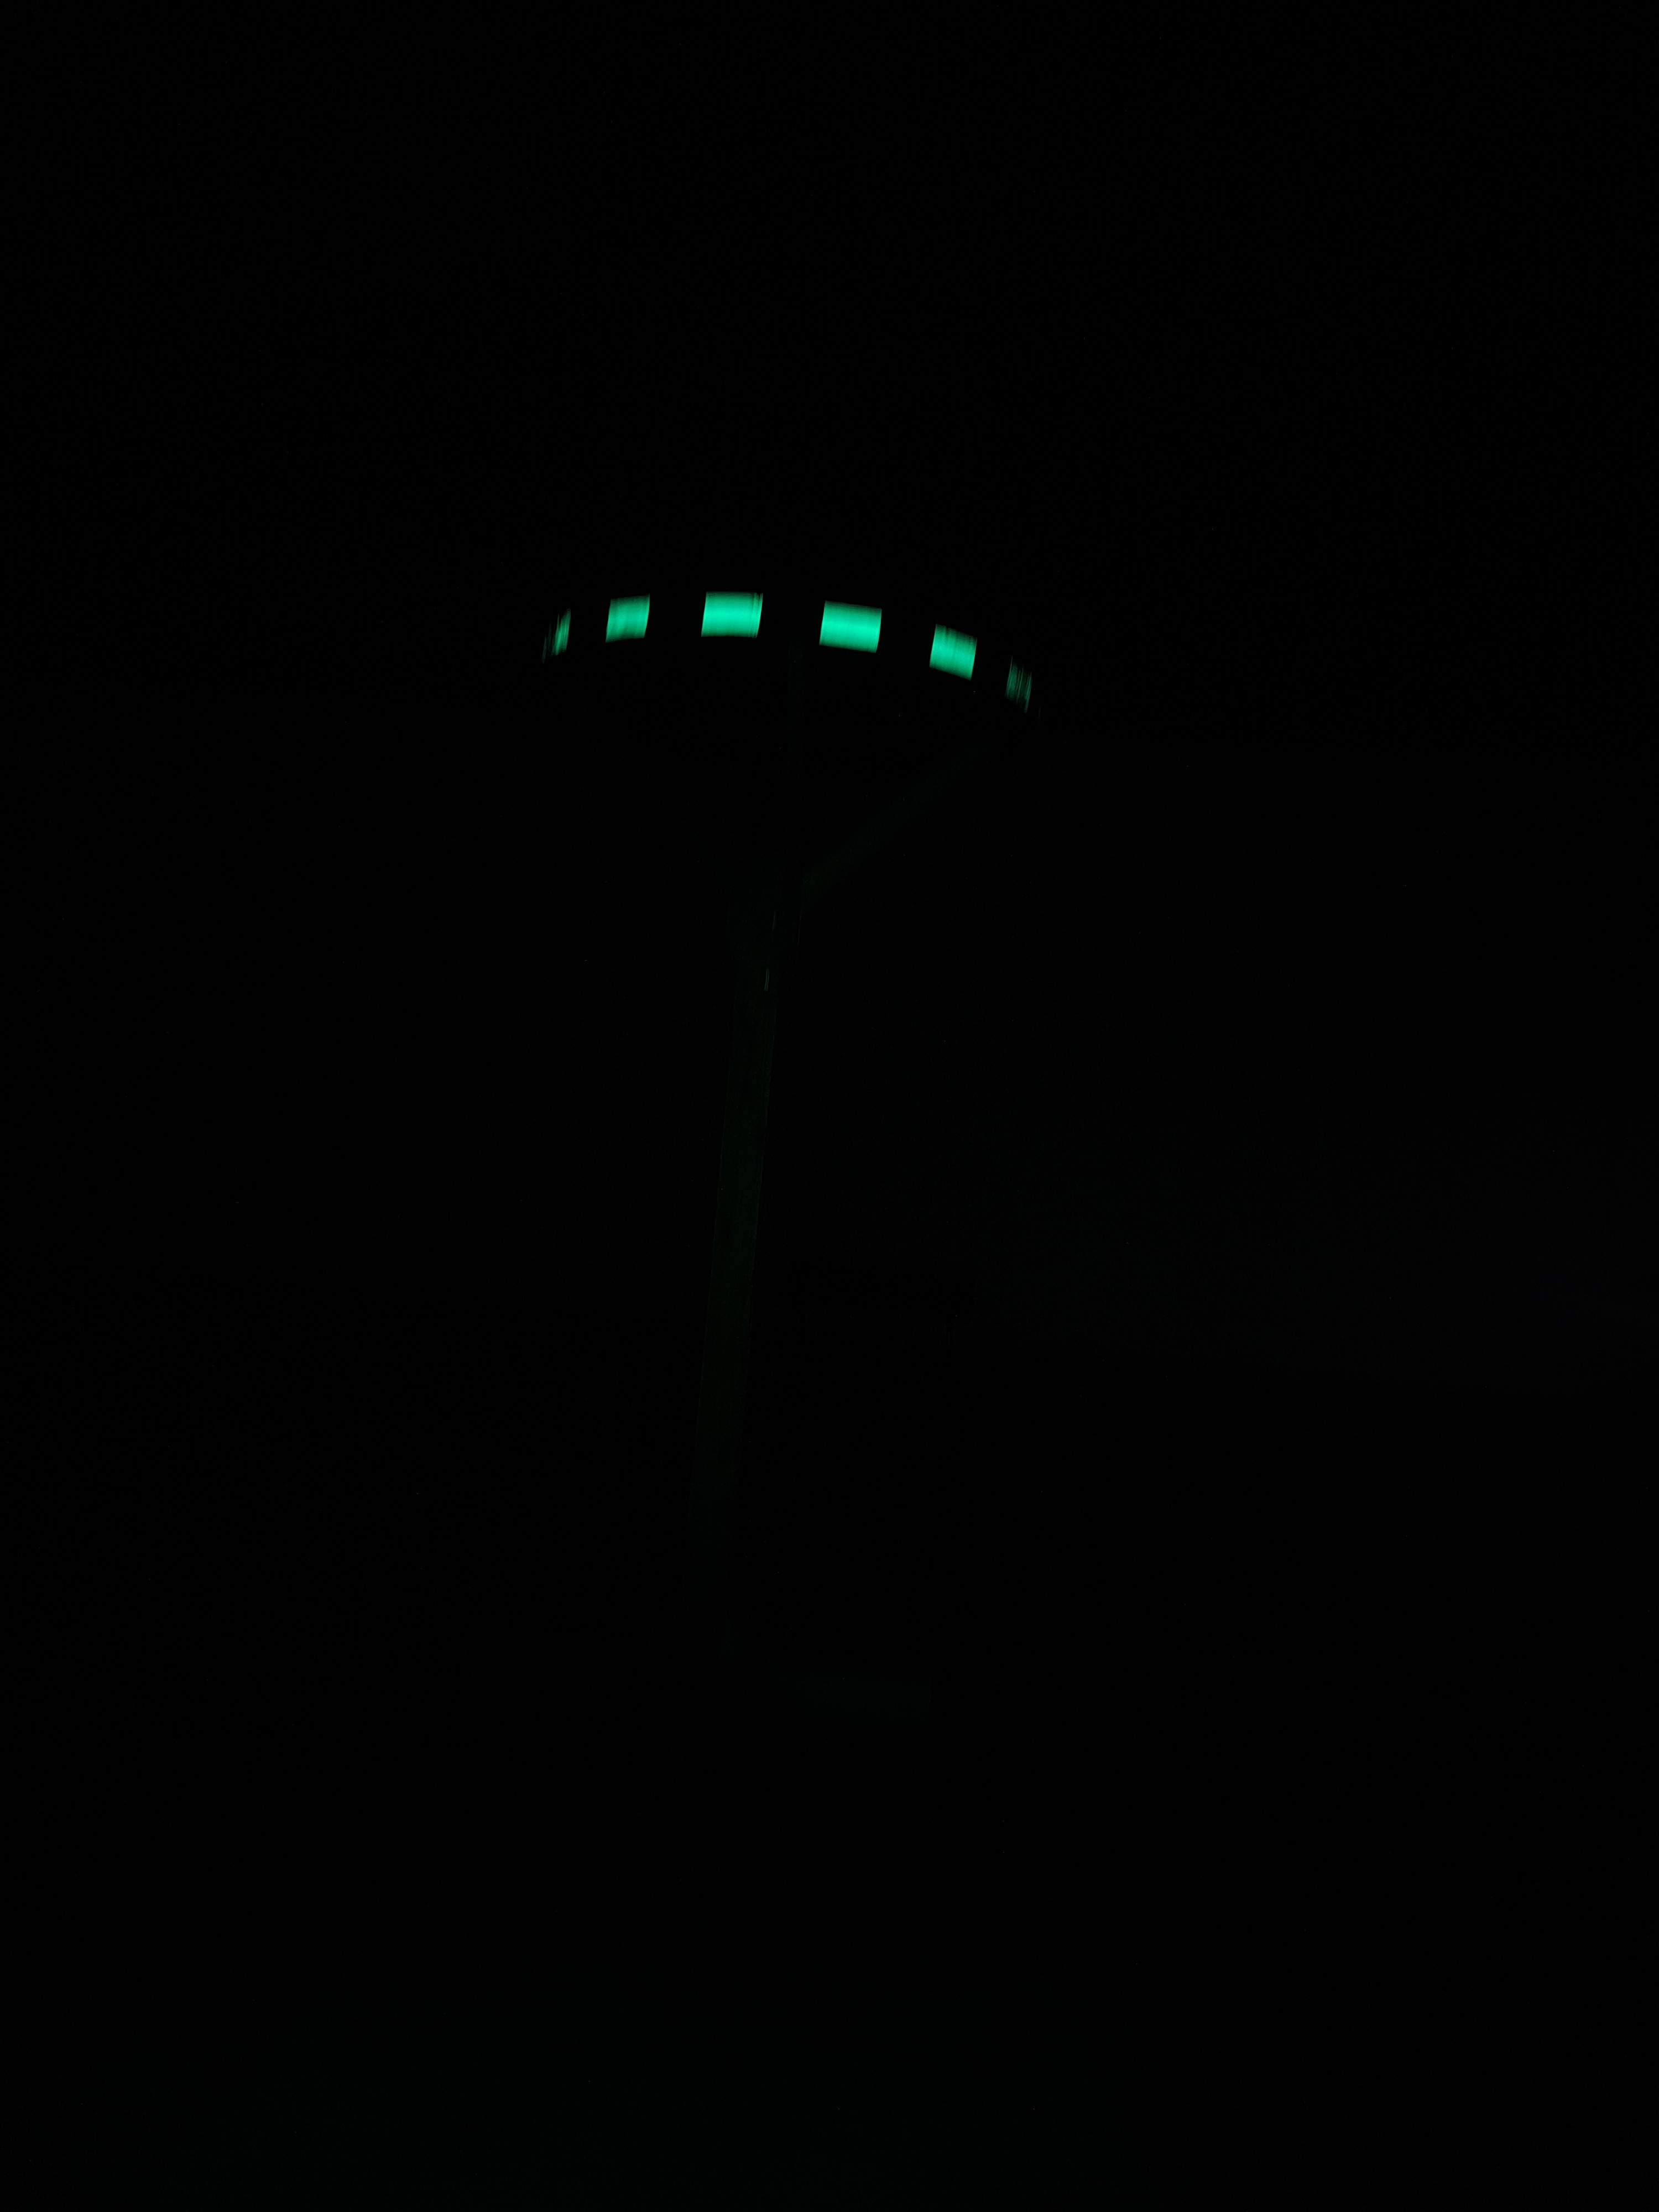hoop: (538, 578, 1044, 735)
